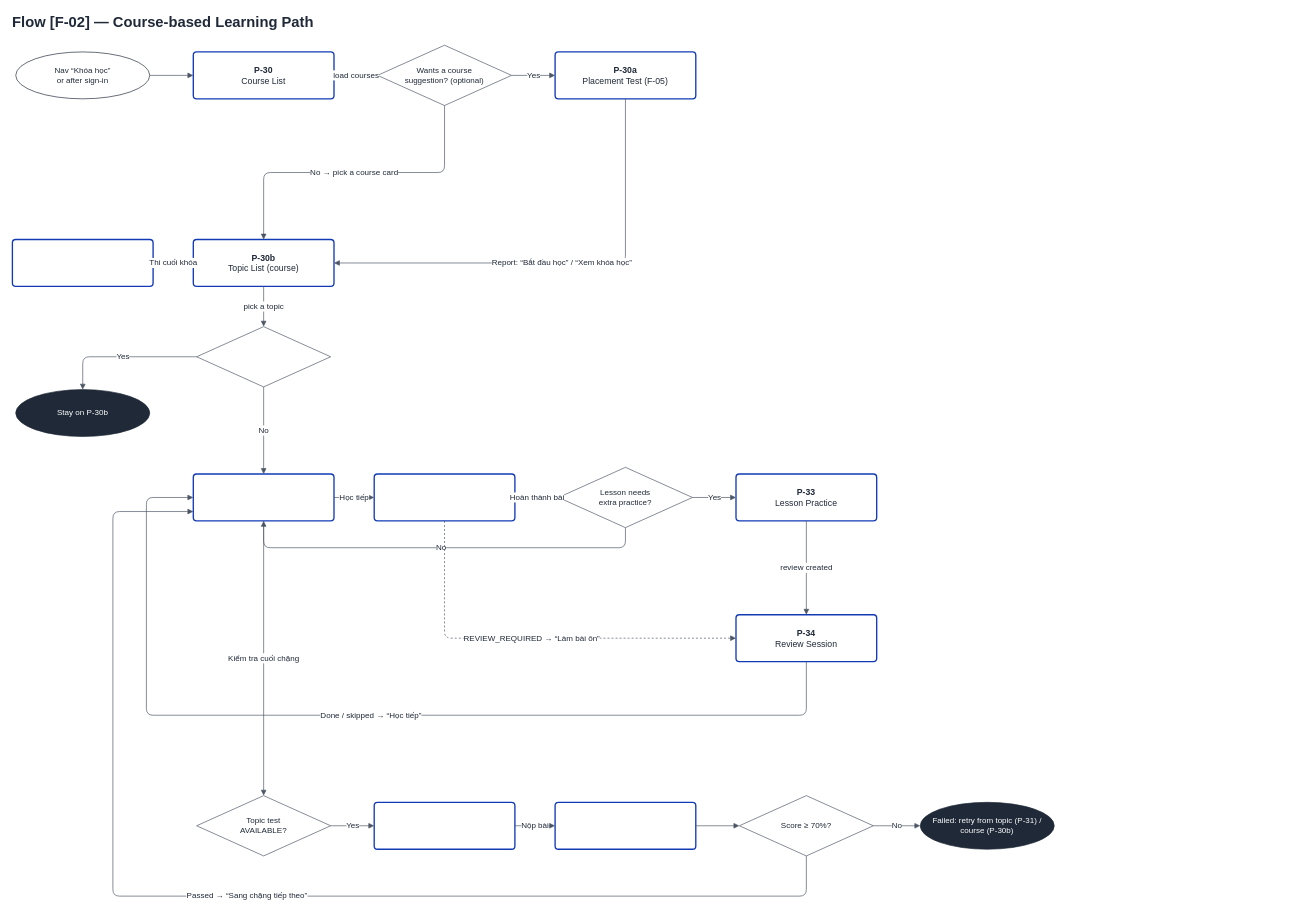
Image size: 1296x913. Some labels were removed from this diagram. The box of each missing label's shape, as (x1, y1, x2, y2) in pixels:
P-31 Topic Detail: (192, 473, 334, 521)
P-32 Lesson Player: (373, 473, 515, 521)
P-35 Course Final Test: (11, 239, 153, 287)
P-35 Topic / Course Test: (373, 801, 515, 850)
P-36 Test Result: (554, 801, 696, 850)
Topic LOCKED?: (196, 326, 331, 387)
